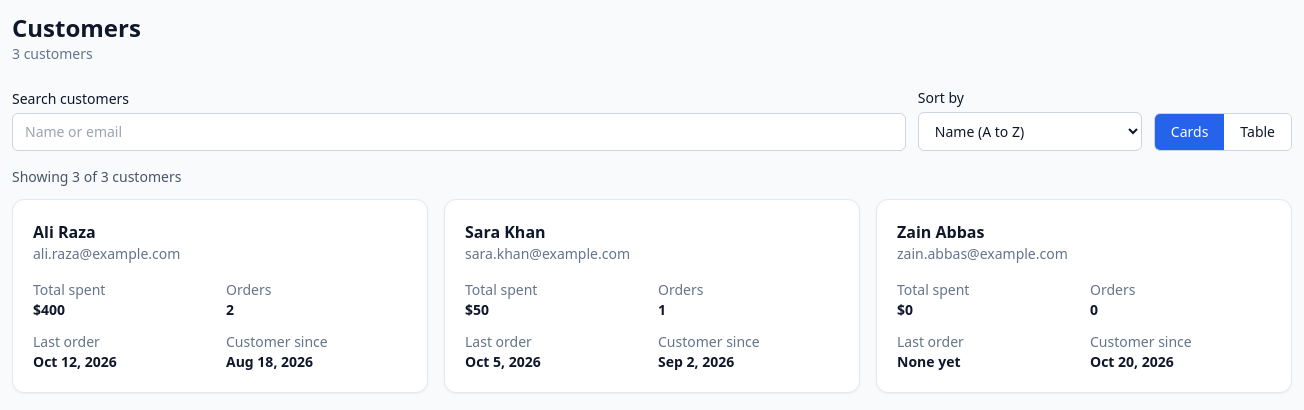
Scenario: CustomersPage › searches by name
Expected: the link "Ali Raza" is shown, [33,221,96,243]
Type "sara" into the search field labelled "Search customers" at [459, 132], box [12,113,906,151]
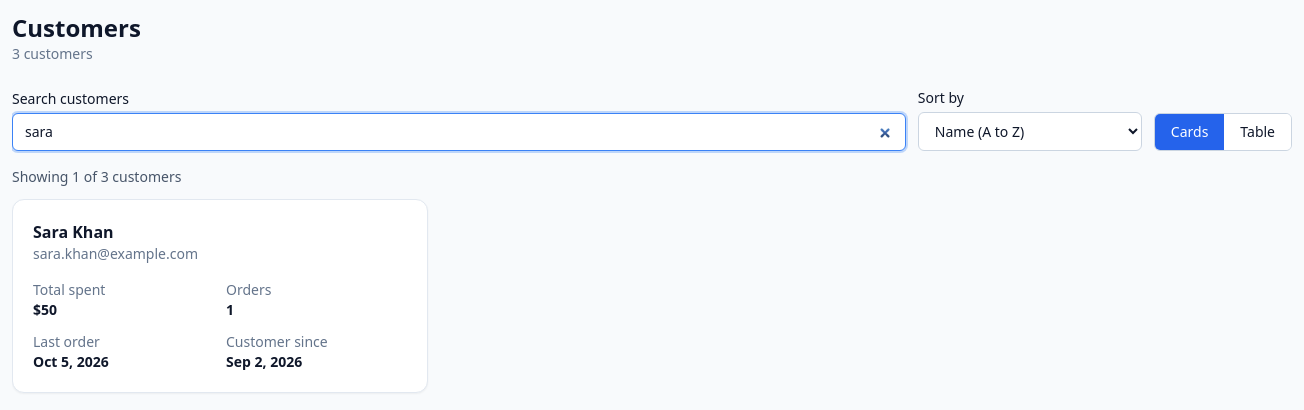
Expected: the link "Sara Khan" is shown, [33,221,114,243]
Expected: the link "Ali Raza" is gone
Expected: the text "Showing 1 of 3 customers" is shown, [12,167,181,186]
